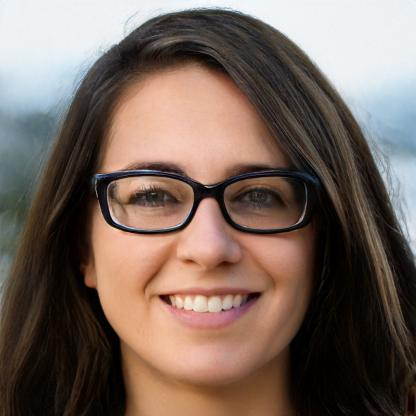glasses: (90, 168, 312, 239)
